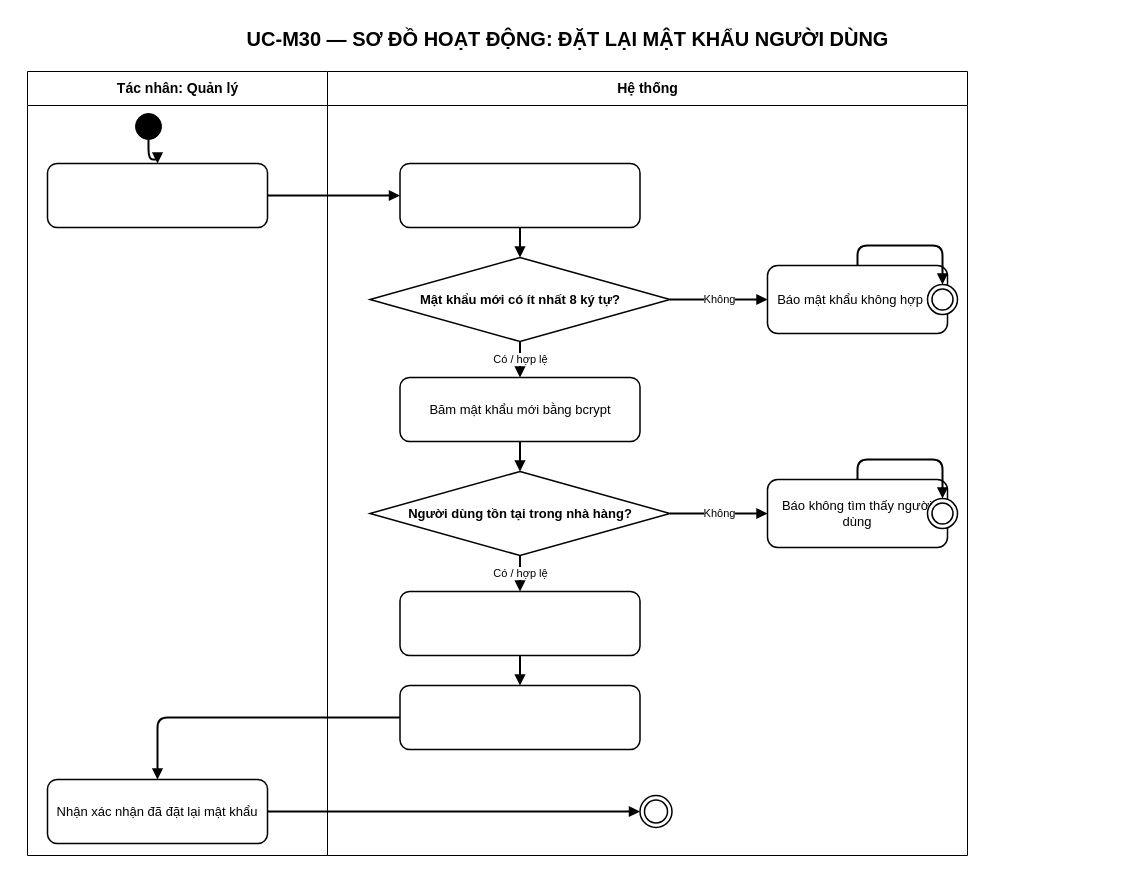
Some shapes in this 1134 by 873 pixel diagram are drawn without their labels. The centre of each missing label's shape, as x and y in pixels:
"Chọn người dùng, nhập mật khẩu mới và xác nhận đặt lại" belongs at pixel 157 195.
"Ghi sự kiện quản trị không chứa mật khẩu và không phát realtime" belongs at pixel 519 717.
"Kiểm tra phiên đăng nhập và quyền quản lý người dùng" belongs at pixel 519 195.
"Lưu mật khẩu mới, xóa bộ đếm đăng nhập sai và thời hạn khóa tạm thời" belongs at pixel 519 623.
